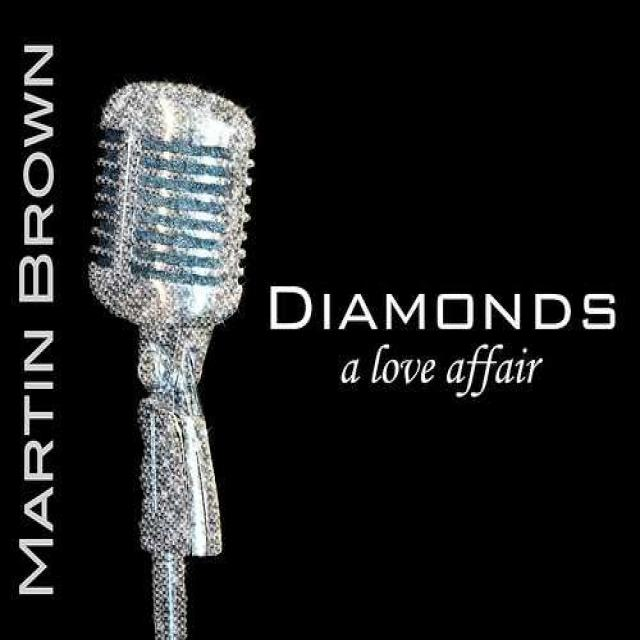microphone: (87, 79, 257, 342)
